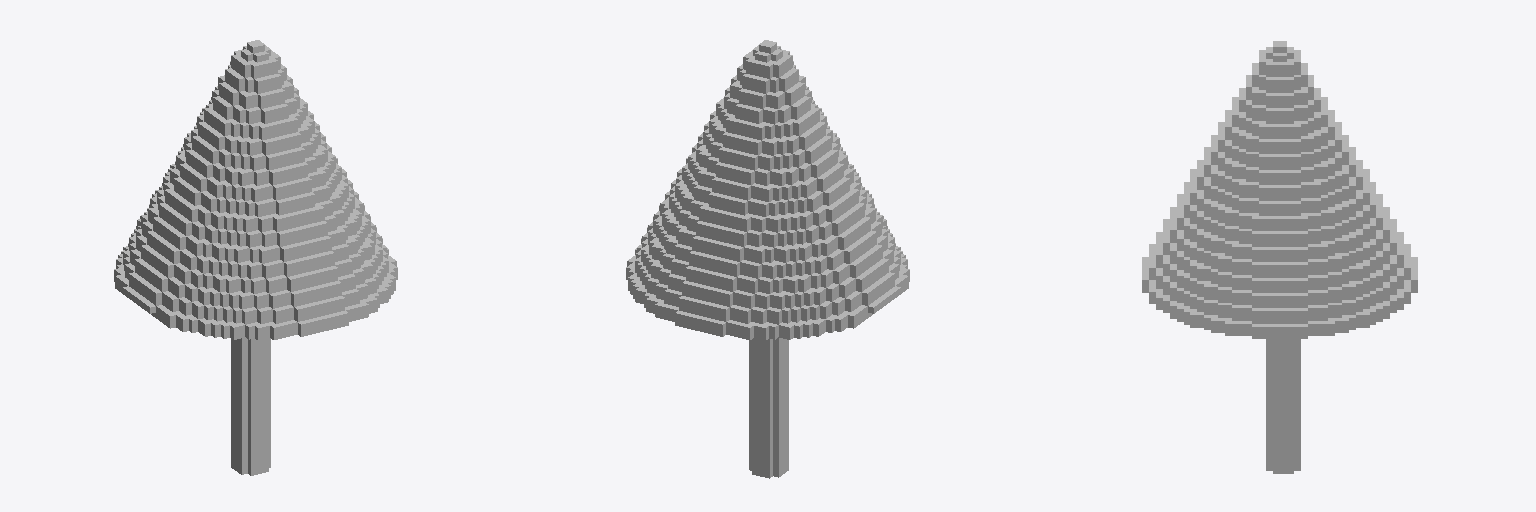
The model's file is tree_1.obj.
3 renders of one model, left to right at view 1: azimuth 30°, elevation 25°; view 2: azimuth 150°, elevation 25°; view 3: azimuth 270°, elevation 25°, orthographic.
Visible parts, largest first — view 1: object 1; view 2: object 1; view 3: object 1.
Part boxes in pixels (x1,y1,x2,y2): object 1: (114, 40, 397, 475); object 1: (626, 40, 909, 478); object 1: (1142, 41, 1417, 473).
Bounding box in the file's own units: 4 × 6.8 × 4.